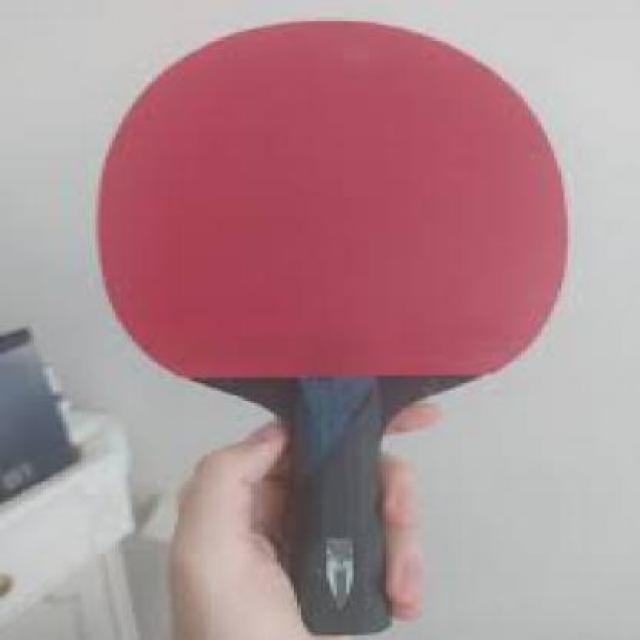table_tennis_racket: (72, 19, 582, 426)
